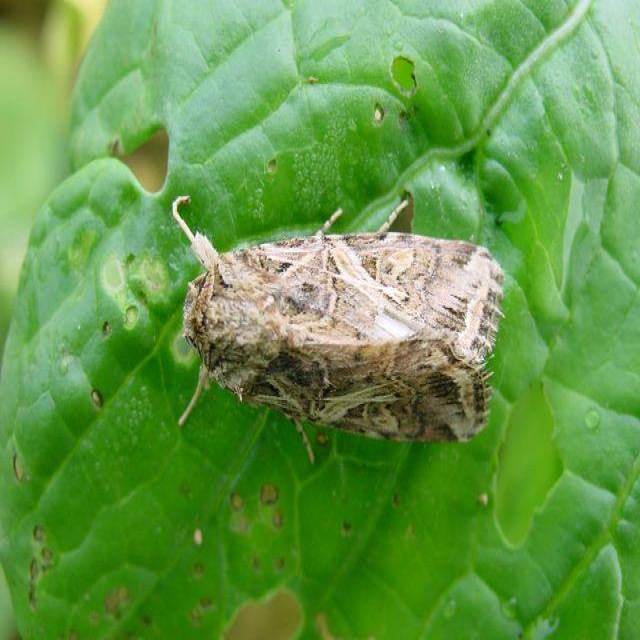armyworm: (174, 194, 513, 471)
